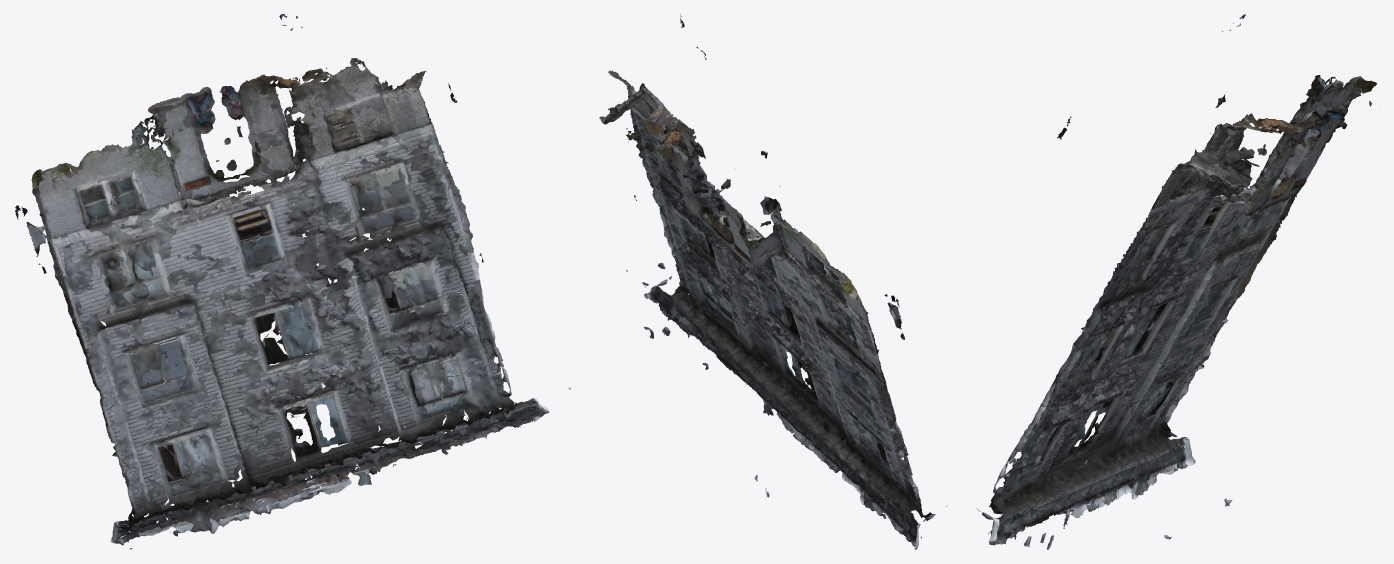
File: SummitInn.fbx
The picture shows the model from 3 angles, left to right: view 1: azimuth 30°, elevation 25°; view 2: azimuth 150°, elevation 25°; view 3: azimuth 270°, elevation 25°; orthographic projection. The views are drawn at different scales.
Visible parts, largest first — view 1: Model; view 2: Model; view 3: Model.
Part boxes in pixels (x1,y1,x2,y2): Model: [15, 14, 570, 549]; Model: [599, 14, 947, 549]; Model: [976, 14, 1376, 549].
Bounding box in the file's own units: 15.36 × 16.55 × 10.73.
